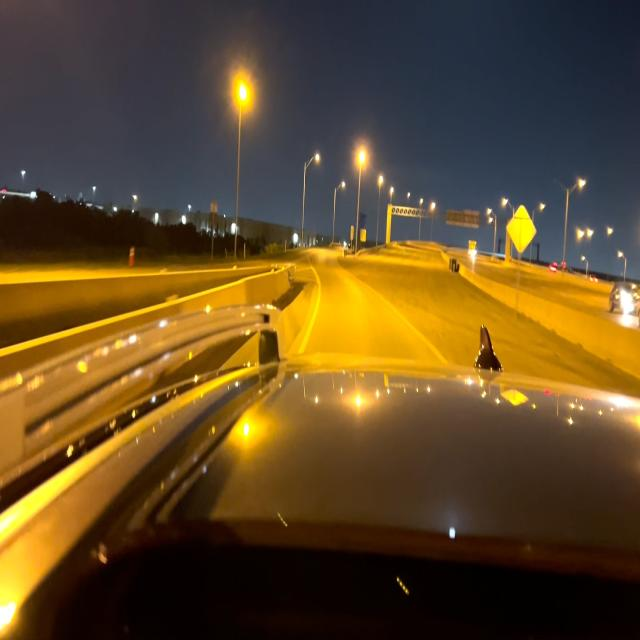back-of-sign: (505, 203, 539, 258)
